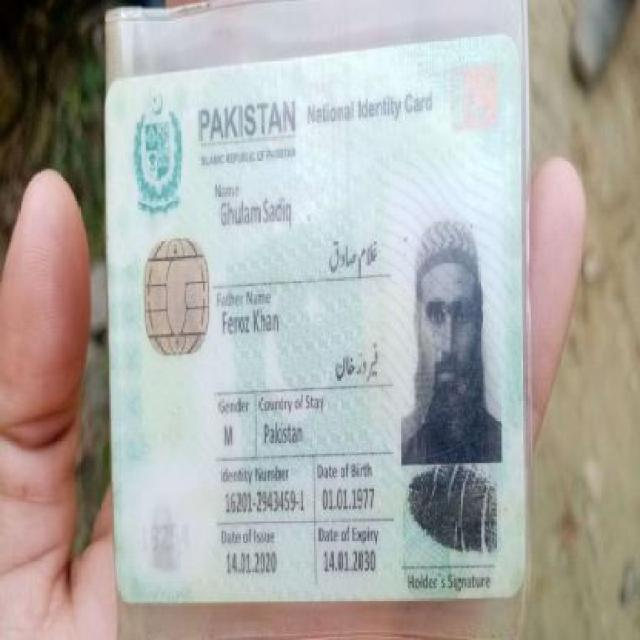Front: (102, 37, 530, 600)
